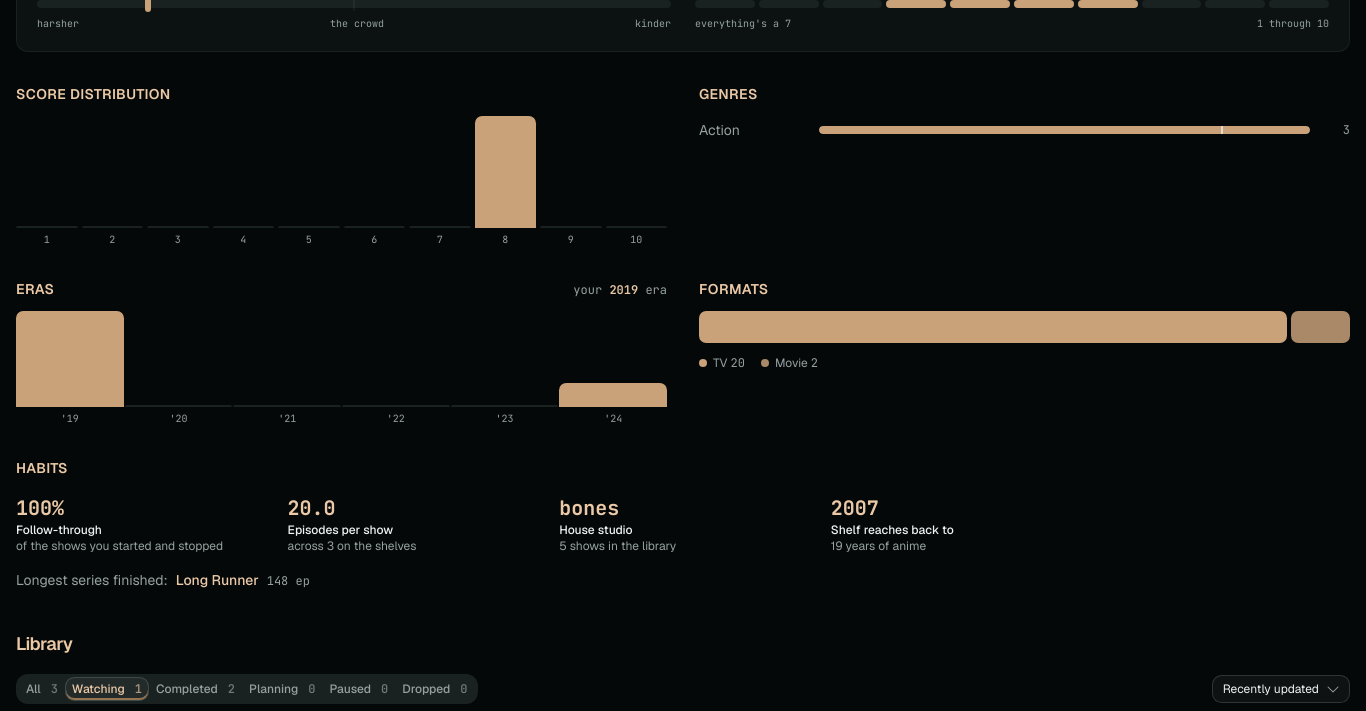
ProfileView › a format segment click filters the library to that format
(page scrolled)
Step 1. Click the button named "2 Movie — 9% of the library" → [1321, 327], box [1291, 311, 1350, 343]
(page scrolled)
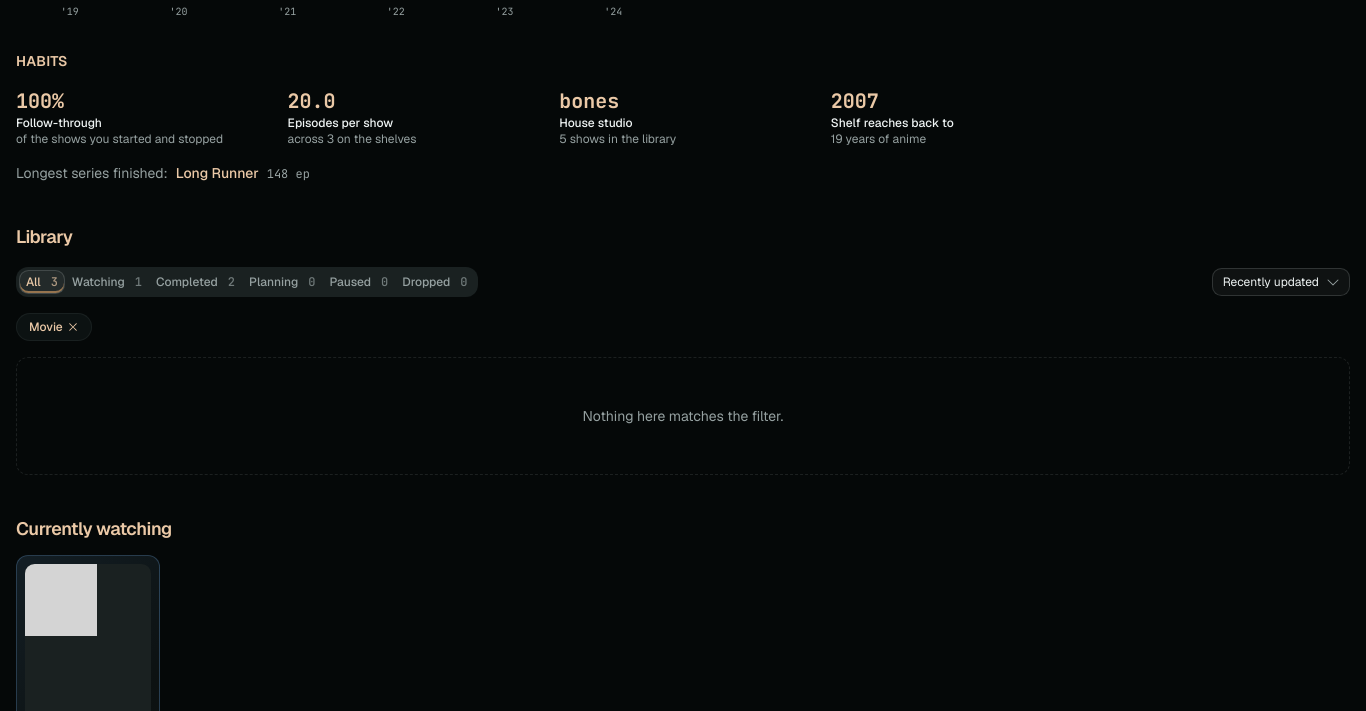
Now the button "Movie" is shown, box [16, 313, 92, 341]
